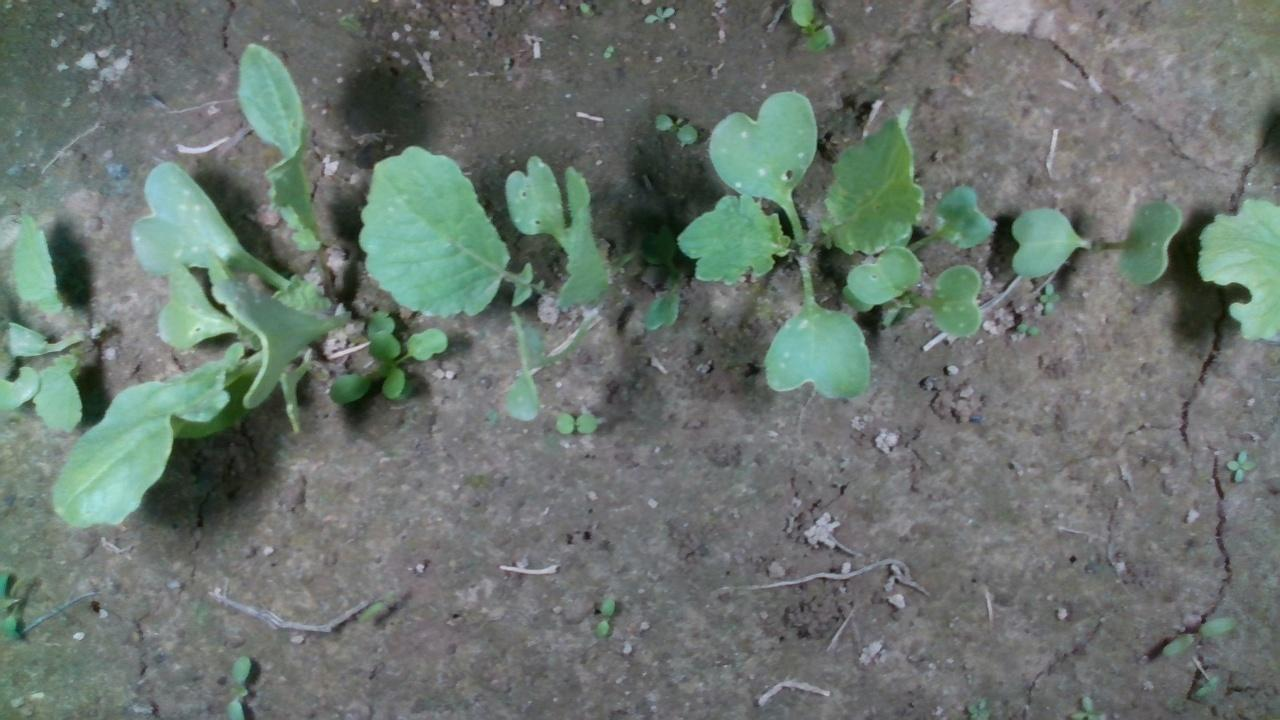weed: (1158, 614, 1239, 656), (652, 110, 698, 144), (1223, 445, 1258, 483), (552, 410, 597, 434), (593, 596, 616, 637), (1036, 280, 1060, 315), (642, 3, 674, 24), (1194, 673, 1219, 697), (1014, 320, 1038, 336), (599, 40, 615, 59)
